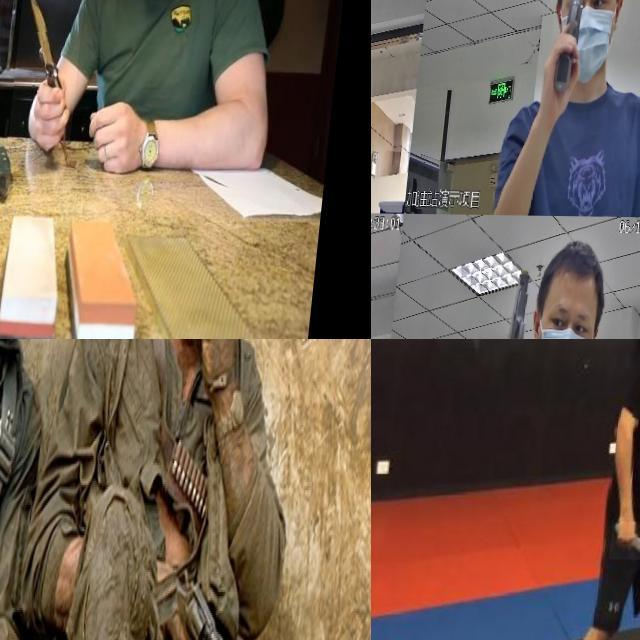-: (16, 0, 92, 141), (619, 520, 640, 558)
gun-knife-thesis - v11 Yolov5 augmented: (0, 516, 44, 640), (181, 564, 247, 640), (371, 7, 397, 197), (551, 0, 599, 97), (503, 261, 547, 339), (371, 261, 392, 339)
